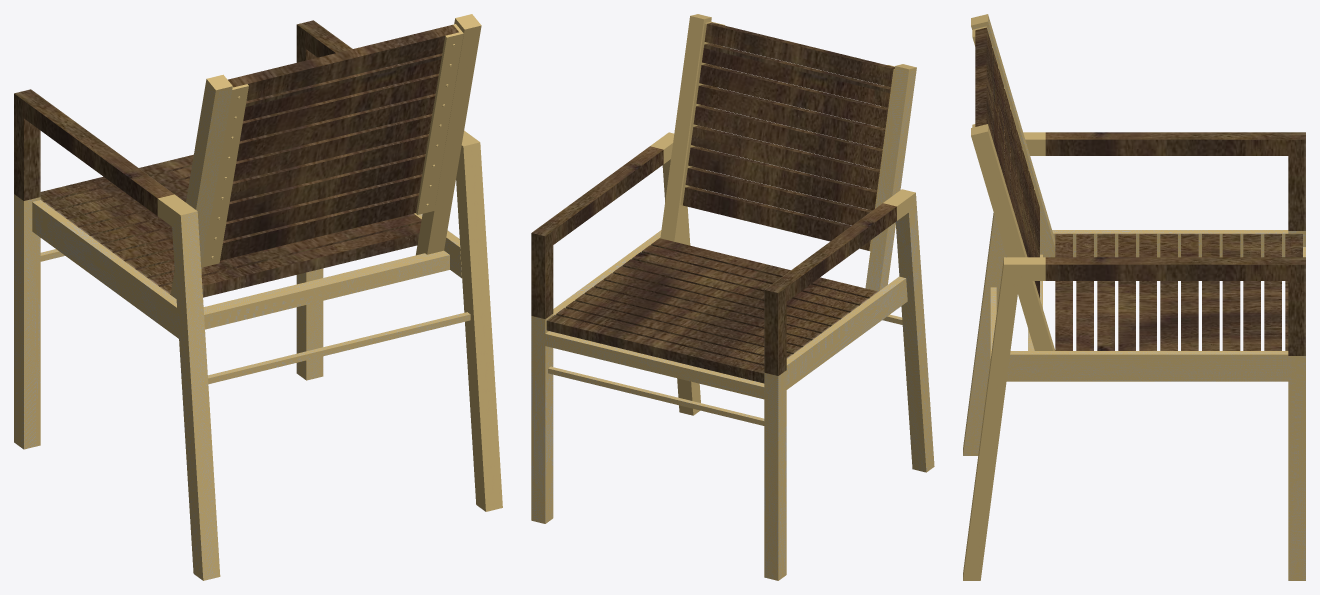
3 renders of one model, left to right at view 1: azimuth 30°, elevation 25°; view 2: azimuth 150°, elevation 25°; view 3: azimuth 270°, elevation 25°, orthographic. The views are drawn at different scales.
Parts seen in each view (by area): view 1: mesh25_mesh25-geometry, mesh36_mesh36-geometry, mesh8_mesh8-geometry, mesh18_mesh18-geometry, mesh17_mesh17-geometry, mesh7_mesh7-geometry, mesh21_mesh21-geometry, mesh22_mesh22-geometry, mesh10_mesh10-geometry, mesh16_mesh16-geometry, mesh3_mesh3-geometry, mesh23_mesh23-geometry (+11 smaller); view 2: mesh25_mesh25-geometry, mesh36_mesh36-geometry, mesh8_mesh8-geometry, mesh15_mesh15-geometry, mesh18_mesh18-geometry, mesh7_mesh7-geometry, mesh3_mesh3-geometry, mesh16_mesh16-geometry, mesh21_mesh21-geometry, mesh22_mesh22-geometry, mesh23_mesh23-geometry, mesh11_mesh11-geometry (+13 smaller); view 3: mesh25_mesh25-geometry, mesh36_mesh36-geometry, mesh8_mesh8-geometry, mesh15_mesh15-geometry, mesh12_mesh12-geometry, mesh1_mesh1-geometry, mesh4_mesh4-geometry, mesh5_mesh5-geometry, mesh6_mesh6-geometry, mesh9_mesh9-geometry, mesh13_mesh13-geometry, mesh14_mesh14-geometry (+12 smaller).
Boxes of the visible parts, x1,y1,x2,y2 form: mesh25_mesh25-geometry: (14, 14, 481, 449); mesh36_mesh36-geometry: (157, 130, 502, 580); mesh8_mesh8-geometry: (14, 89, 173, 215); mesh18_mesh18-geometry: (228, 24, 458, 100); mesh17_mesh17-geometry: (160, 223, 420, 297); mesh7_mesh7-geometry: (236, 93, 435, 161); mesh21_mesh21-geometry: (243, 53, 442, 120); mesh22_mesh22-geometry: (226, 154, 425, 221); mesh10_mesh10-geometry: (220, 193, 418, 260); mesh16_mesh16-geometry: (240, 73, 438, 141); mesh3_mesh3-geometry: (233, 114, 432, 181); mesh23_mesh23-geometry: (230, 134, 428, 201); mesh25_mesh25-geometry: (531, 14, 916, 580); mesh36_mesh36-geometry: (650, 132, 934, 472); mesh8_mesh8-geometry: (764, 203, 896, 375); mesh15_mesh15-geometry: (531, 146, 663, 319); mesh18_mesh18-geometry: (704, 22, 894, 87); mesh7_mesh7-geometry: (696, 84, 885, 148); mesh3_mesh3-geometry: (693, 105, 882, 169); mesh16_mesh16-geometry: (699, 64, 888, 128); mesh21_mesh21-geometry: (702, 43, 890, 107); mesh22_mesh22-geometry: (688, 146, 877, 210); mesh23_mesh23-geometry: (691, 125, 879, 190); mesh11_mesh11-geometry: (546, 315, 764, 383); mesh25_mesh25-geometry: (971, 14, 1305, 580); mesh36_mesh36-geometry: (963, 132, 1045, 580); mesh8_mesh8-geometry: (1045, 132, 1305, 230); mesh15_mesh15-geometry: (1045, 257, 1305, 355); mesh12_mesh12-geometry: (1222, 233, 1240, 350); mesh1_mesh1-geometry: (1264, 233, 1281, 350); mesh4_mesh4-geometry: (1243, 233, 1260, 350); mesh5_mesh5-geometry: (1118, 233, 1135, 350); mesh6_mesh6-geometry: (1181, 233, 1198, 350); mesh9_mesh9-geometry: (1139, 233, 1156, 350); mesh13_mesh13-geometry: (1097, 233, 1114, 350); mesh14_mesh14-geometry: (1202, 233, 1219, 350).
Size of the model in its own units: 0.4653 by 0.724 by 0.5092.
Materials: 3 (2 with a texture image).
